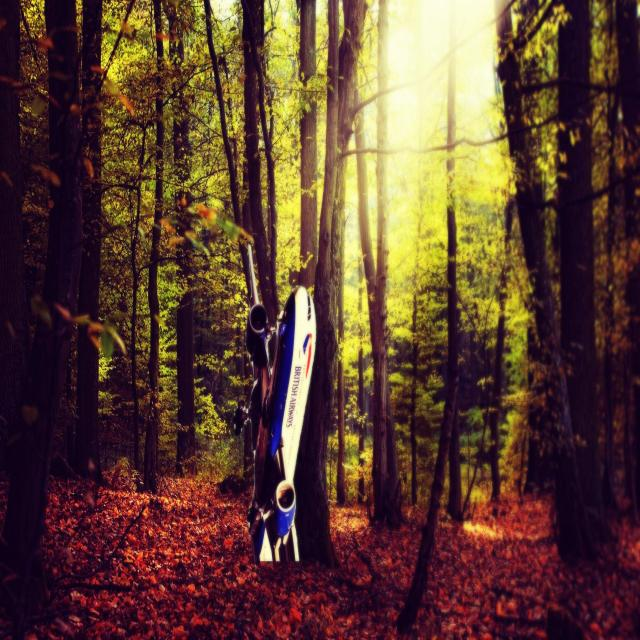airplane: (244, 240, 316, 560)
